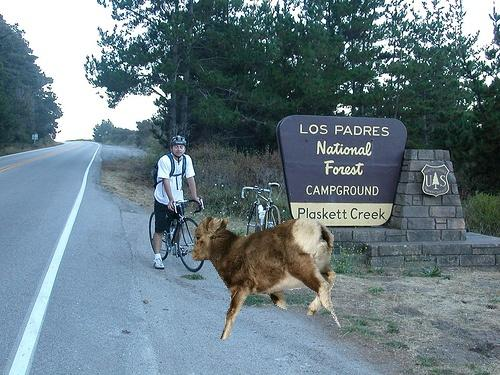tampered: (192, 218, 341, 339)
